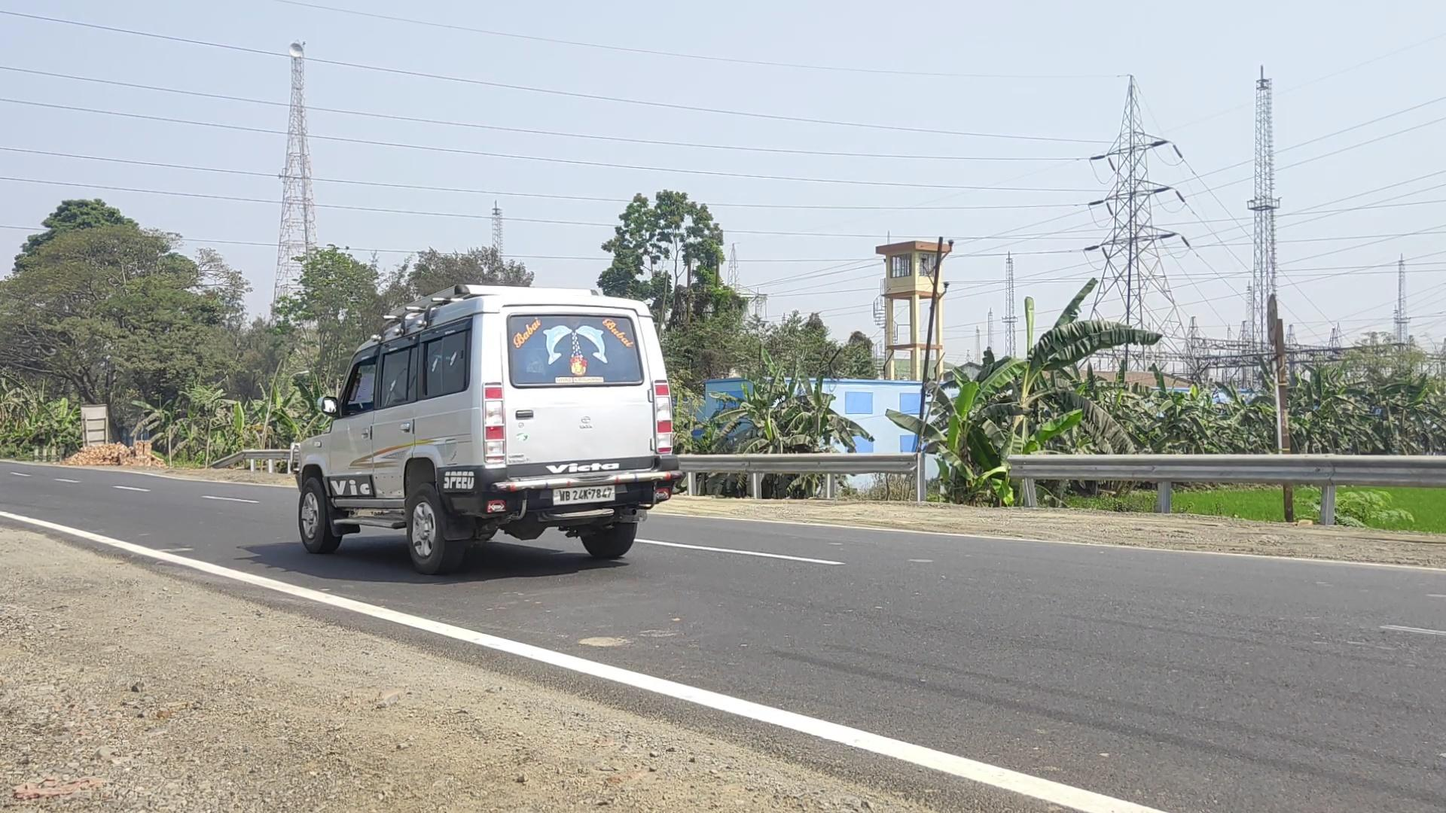car: (286, 283, 685, 576)
